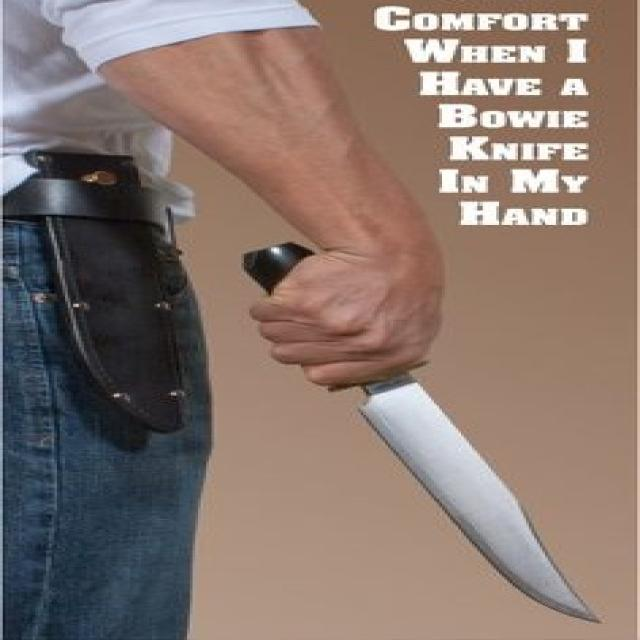knife: (237, 239, 615, 626)
